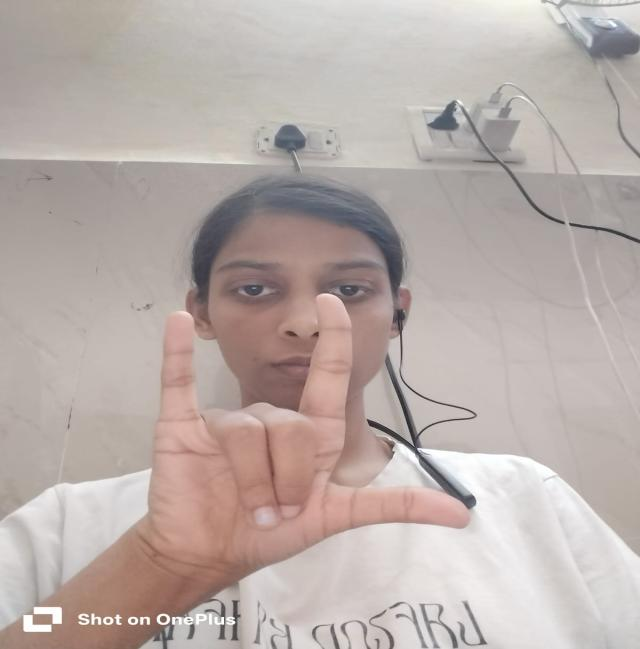I Love You: (133, 285, 487, 581)
